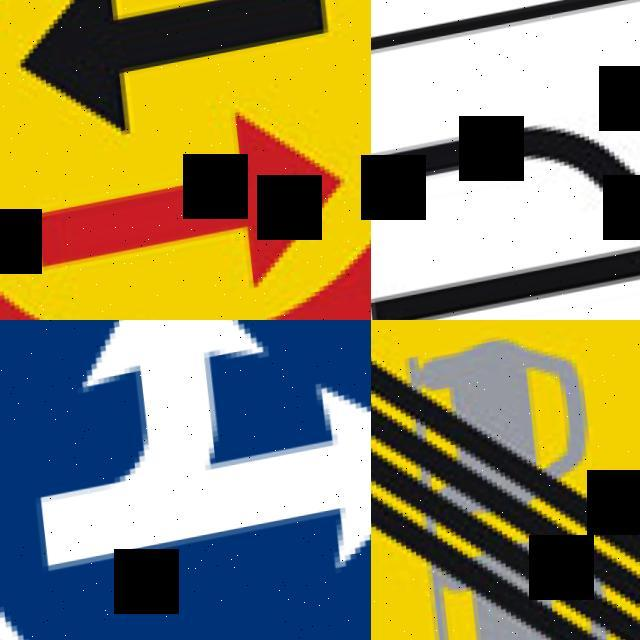108: (371, 320, 640, 640)
175: (0, 0, 371, 320)
71: (371, 0, 640, 320)
Turn left or straight ahead: (0, 320, 371, 640)
